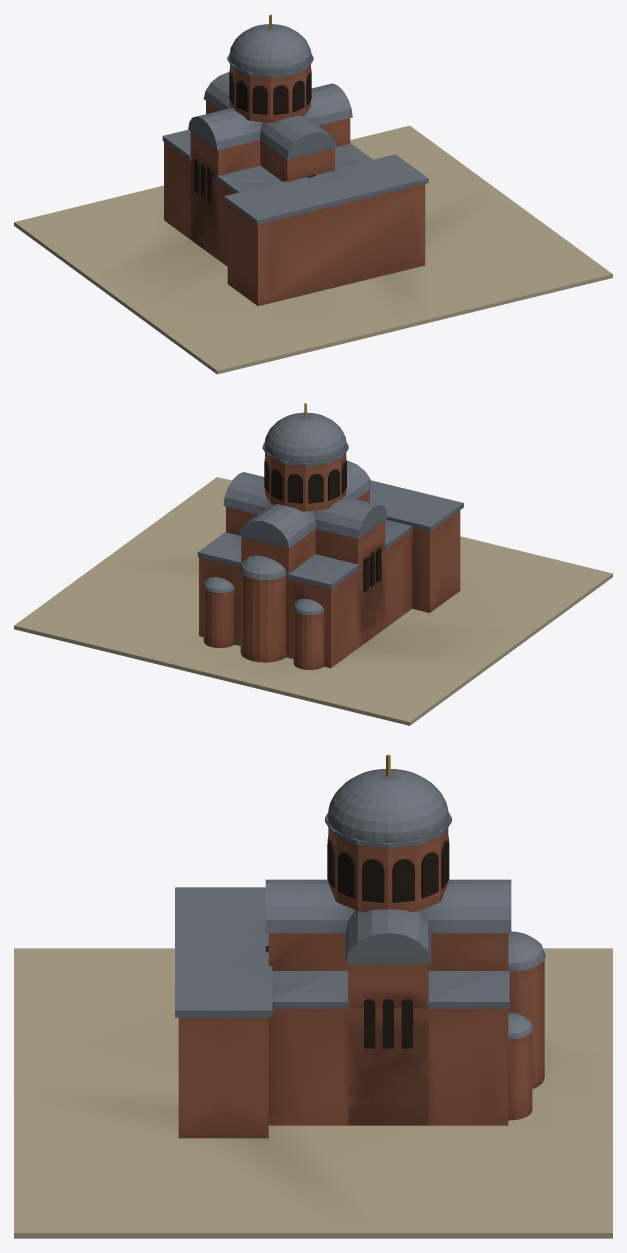
Rendered from chora.glb.
3 renders of one model, top to bottom at view 1: azimuth 30°, elevation 25°; view 2: azimuth 150°, elevation 25°; view 3: azimuth 270°, elevation 25°, orthographic. The views are drawn at different scales.
Visible parts, largest first — view 1: p0_church, p1_naos; view 2: p0_church, p1_naos; view 3: p0_church, p1_naos.
Part boxes in pixels (x1,y1,x2,y2): p0_church: [14, 125, 612, 374]; p1_naos: [162, 14, 428, 306]; p0_church: [14, 477, 612, 725]; p1_naos: [197, 403, 463, 669]; p0_church: [14, 948, 612, 1238]; p1_naos: [175, 754, 545, 1138].
Size of the model in its own units: 45 by 24.17 by 40.
